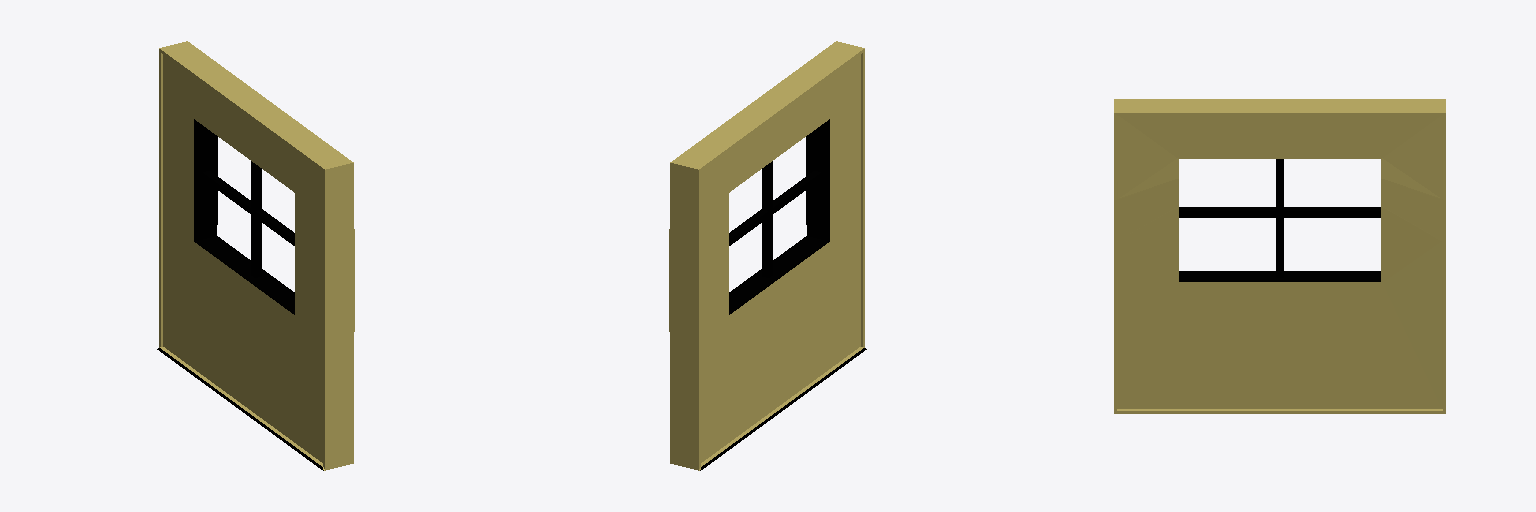
Rendered from simpleWindow.obj.
The picture shows the model from 3 angles: view 1: azimuth 30°, elevation 25°; view 2: azimuth 150°, elevation 25°; view 3: azimuth 270°, elevation 25°; orthographic projection.
Parts seen in each view (by area): view 1: Window1_Cube.003; view 2: Window1_Cube.003; view 3: Window1_Cube.003.
Part boxes in pixels (bbox=[...]): Window1_Cube.003: bbox=[157, 41, 354, 470]; Window1_Cube.003: bbox=[669, 41, 866, 470]; Window1_Cube.003: bbox=[1114, 99, 1445, 413].
Bounding box in the file's own units: 0.1091 × 1 × 1.